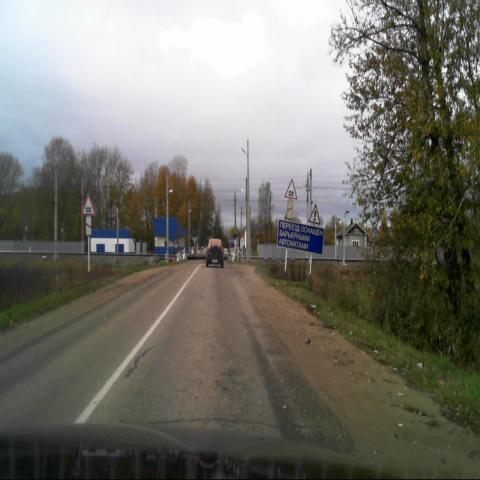1_1: (82, 195, 96, 218), (284, 178, 297, 199)
1_33: (308, 202, 320, 224)
